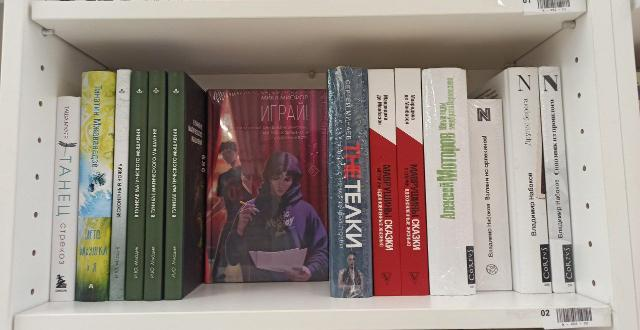book-s-spine: (422, 70, 475, 295), (329, 70, 373, 297), (509, 68, 551, 294), (76, 72, 116, 301), (468, 99, 512, 291), (539, 67, 575, 293), (368, 69, 401, 296), (395, 69, 428, 296), (51, 97, 80, 301), (126, 71, 148, 301), (144, 72, 165, 301), (110, 70, 130, 301), (165, 72, 184, 301)
